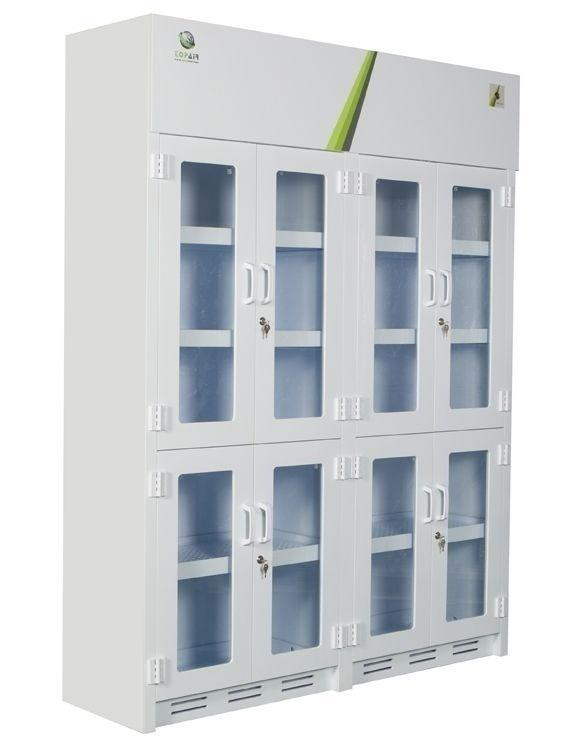cabinet_door: (163, 148, 259, 446), (256, 155, 340, 435), (162, 450, 258, 689), (158, 27, 356, 140), (354, 172, 433, 430), (253, 442, 337, 667), (441, 178, 510, 424), (355, 441, 431, 654), (361, 66, 515, 160), (438, 435, 507, 632)
handle: (241, 506, 253, 548), (257, 502, 268, 547), (244, 265, 255, 308), (261, 264, 270, 306), (424, 487, 434, 523), (437, 485, 447, 521), (427, 272, 436, 307), (440, 269, 449, 303)
